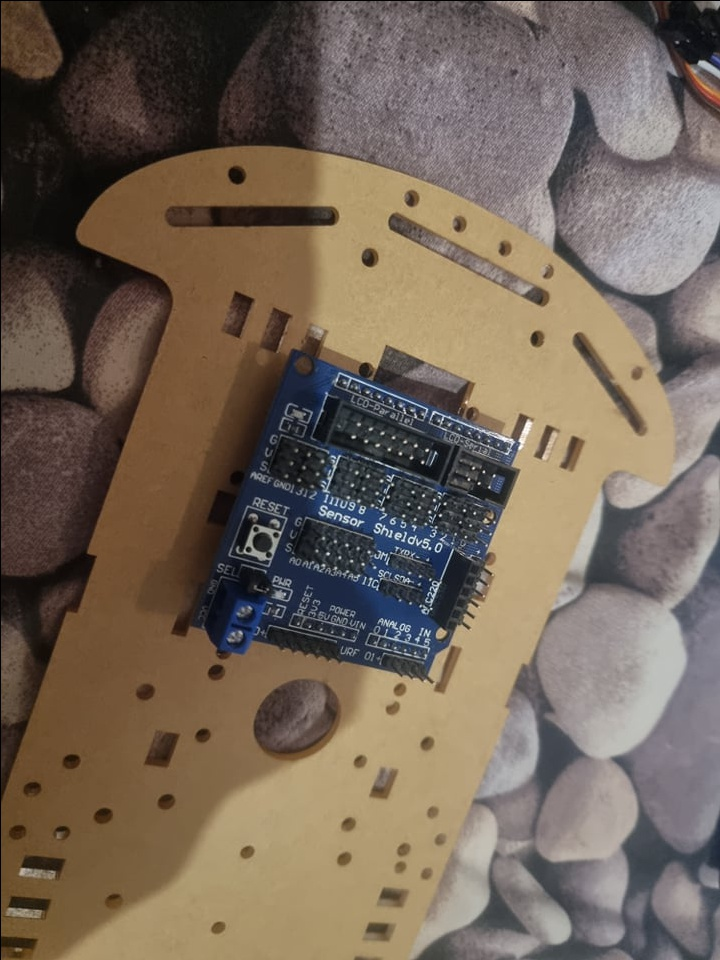5V EXPANSION: (192, 344, 522, 685)
